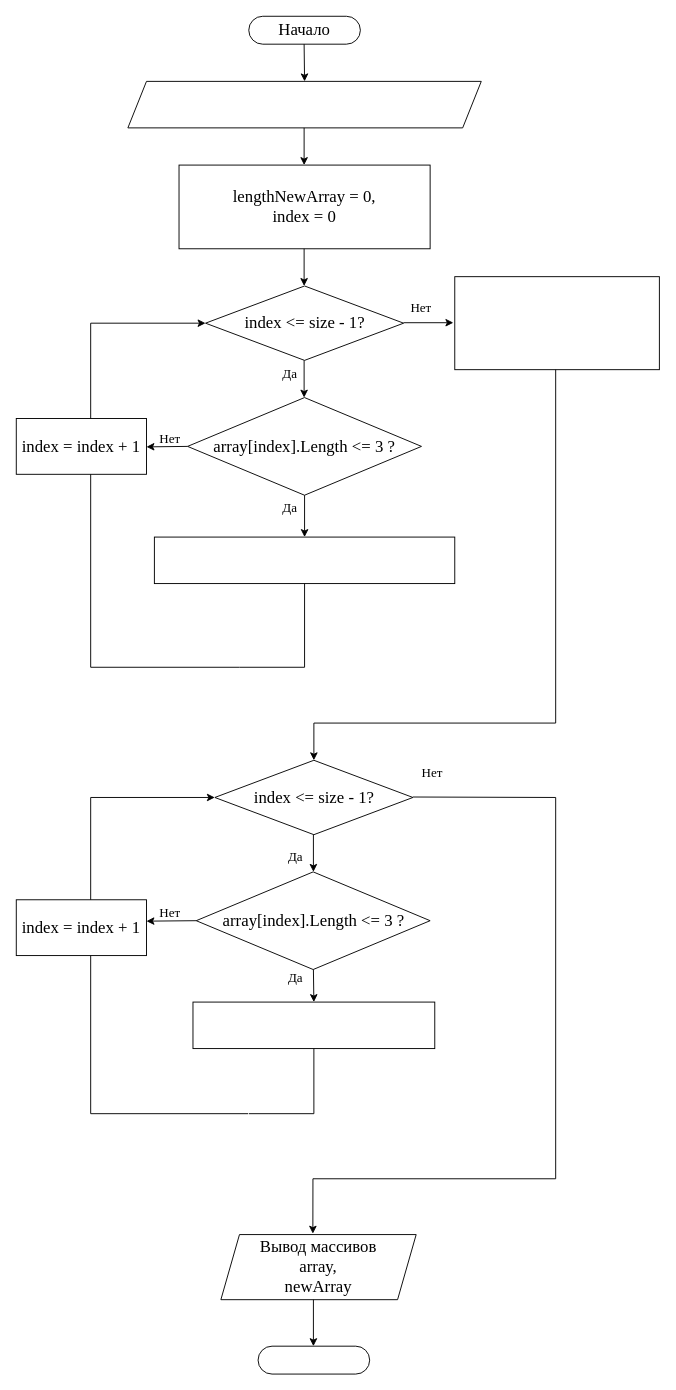
Some shapes in this 676 by 1390 pixel diagram are drawn without their labels. The centre of each missing label's shape, as x and y in pixels:
array = ["hello", "2", "world", ":-)"] size = length(array): (304,104)
lengthNewArray = lengthNewArray + 1: (304,560)
newArray = [], size newArray = lengthNewArray, index = 0: (556,323)
newArray[index] = array[index];: (313,1025)
Конец: (313,1359)
